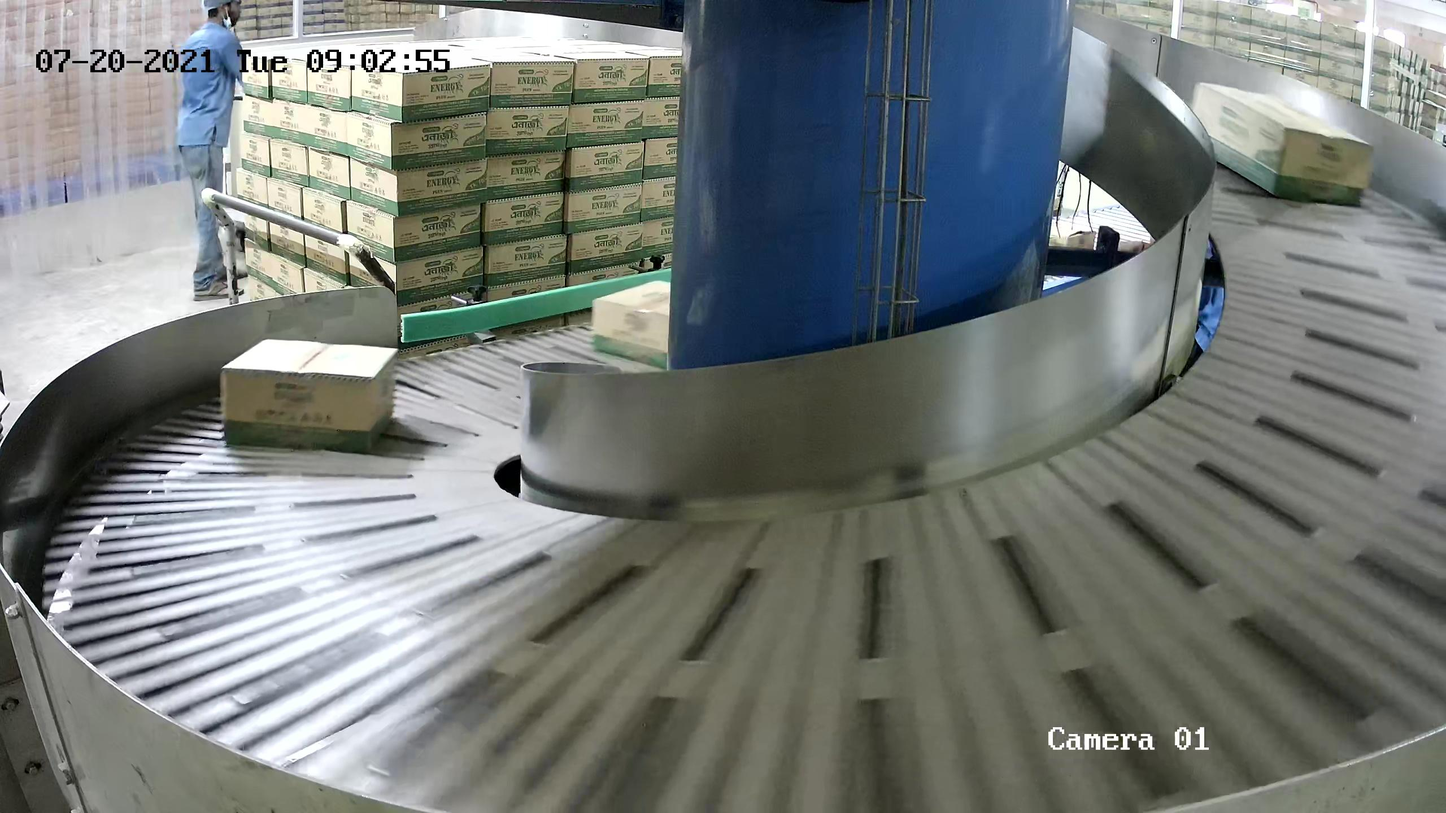Box: (1186, 80, 1374, 210), (221, 338, 399, 455), (592, 280, 723, 379)
